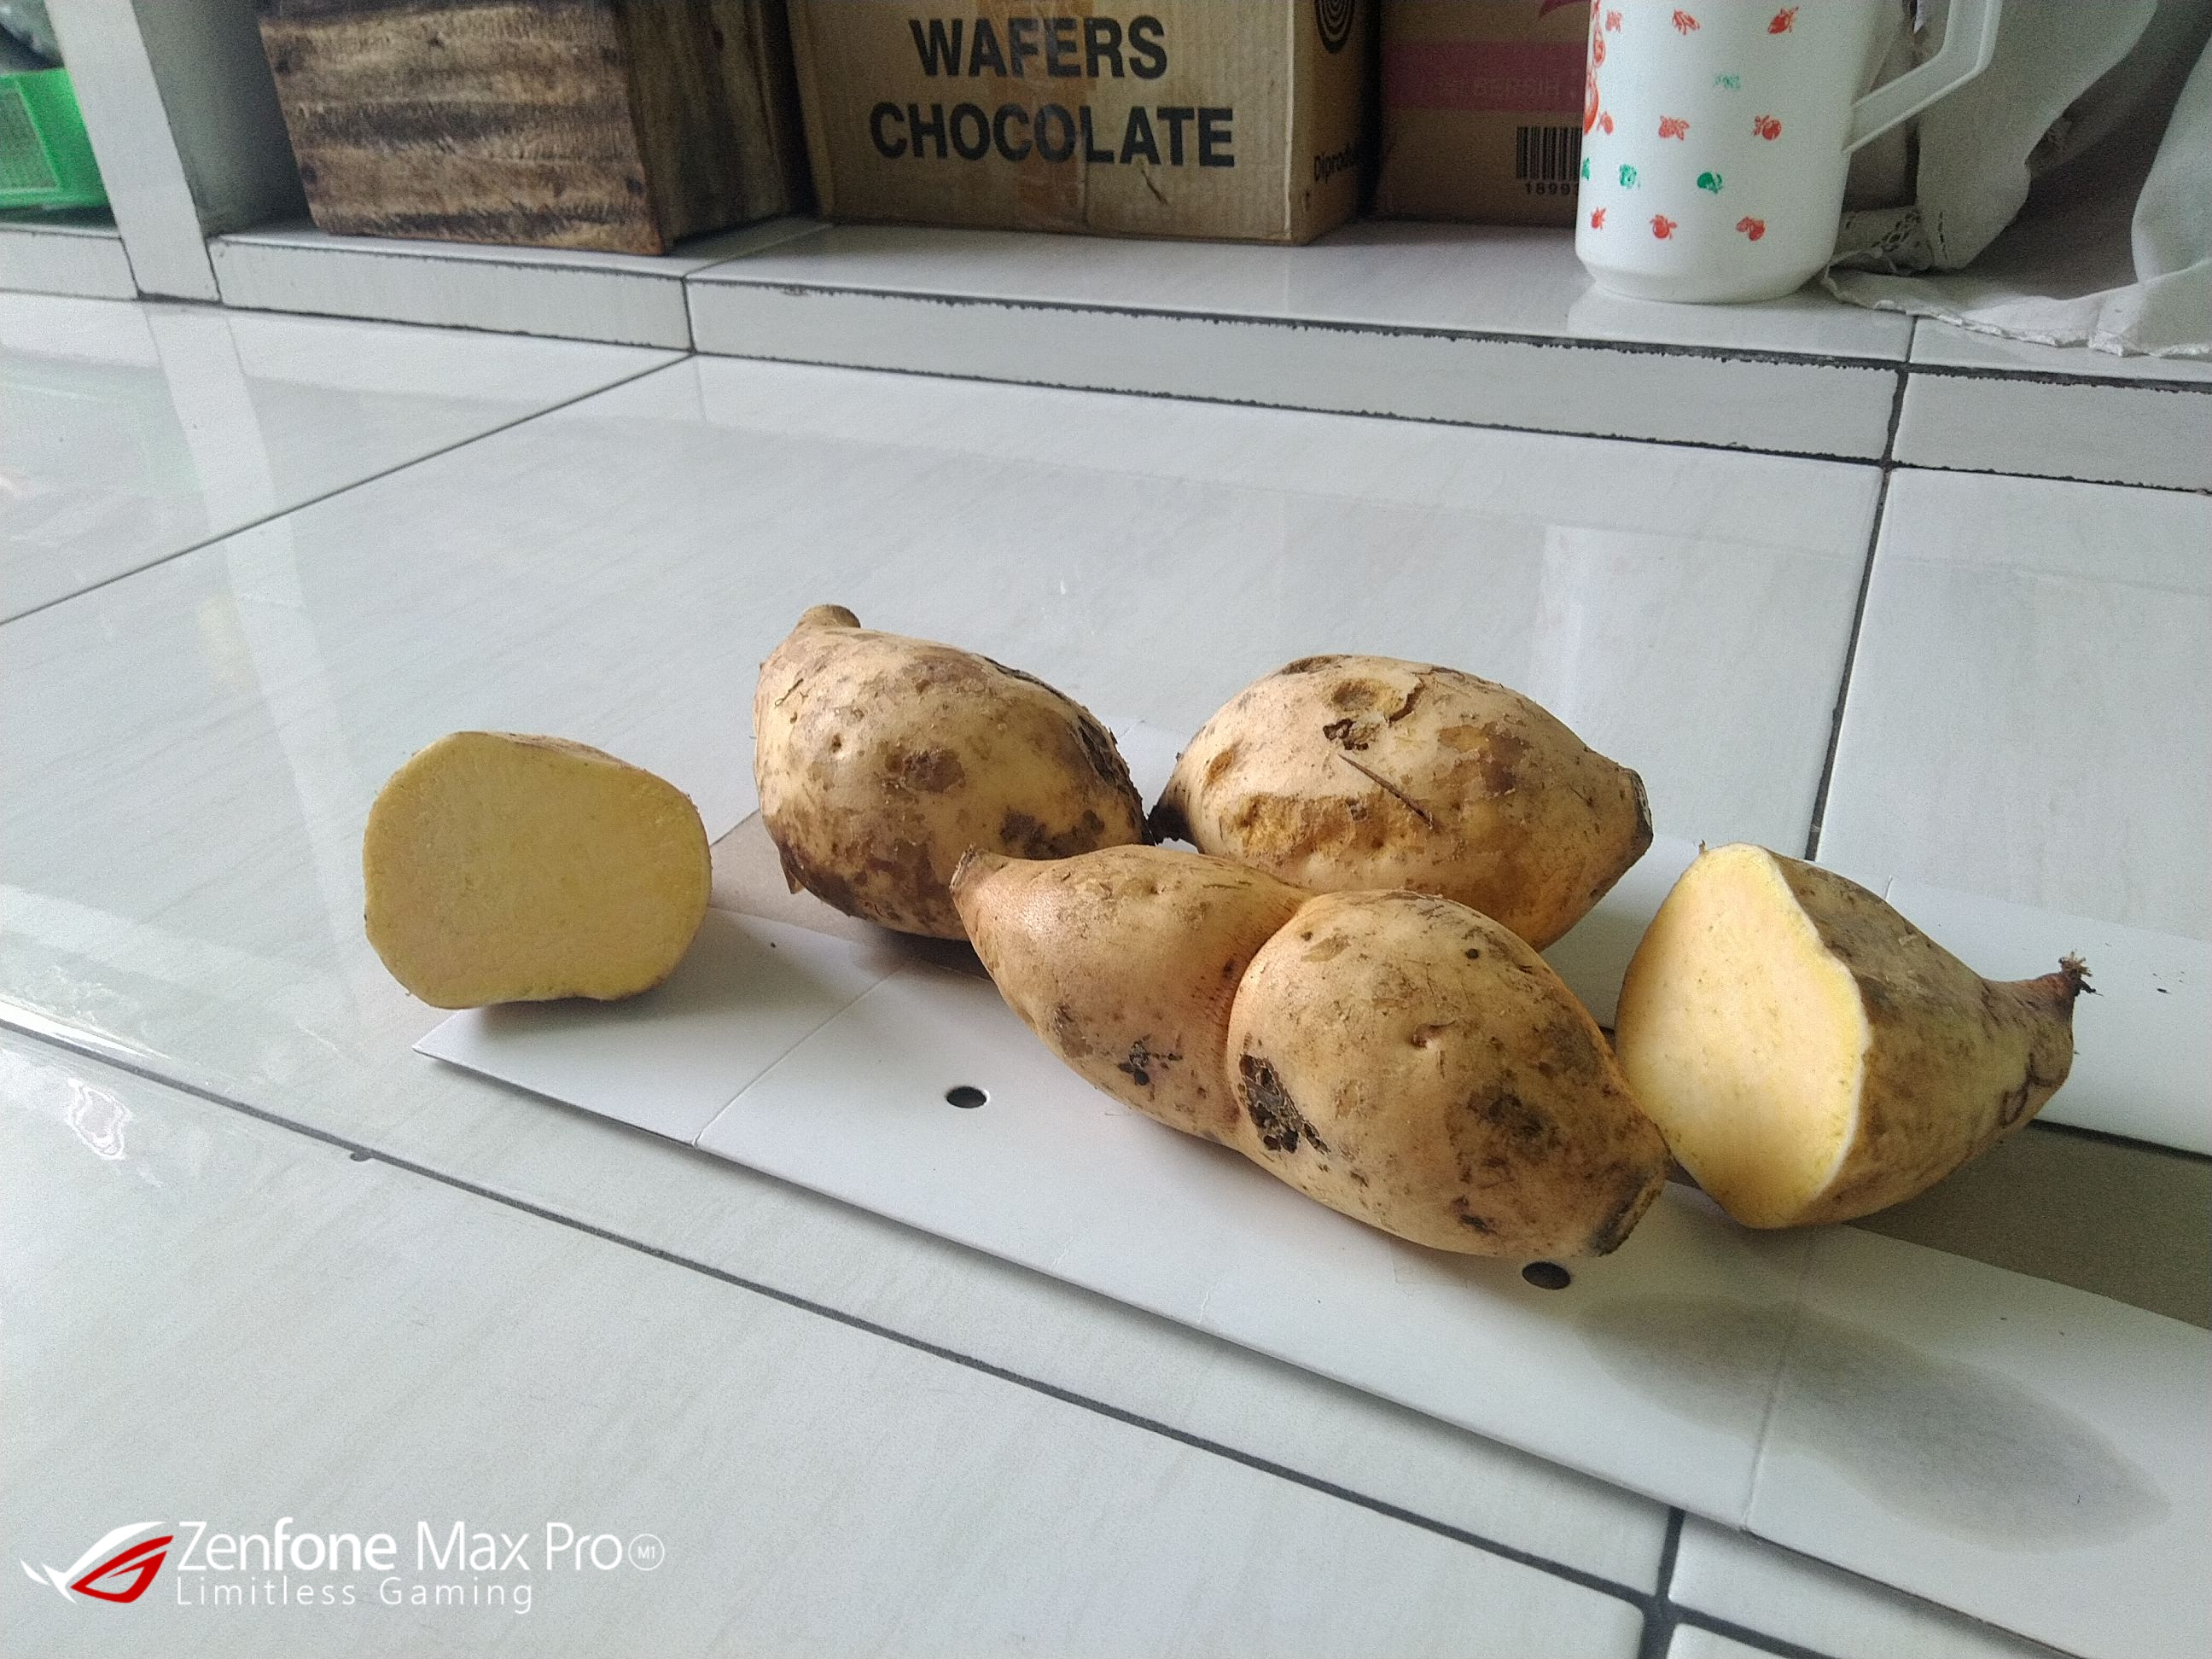ubi kuning: (935, 829, 1669, 1283), (1601, 835, 2101, 1241), (1146, 641, 1679, 951), (744, 603, 1148, 939), (350, 704, 723, 1012)
